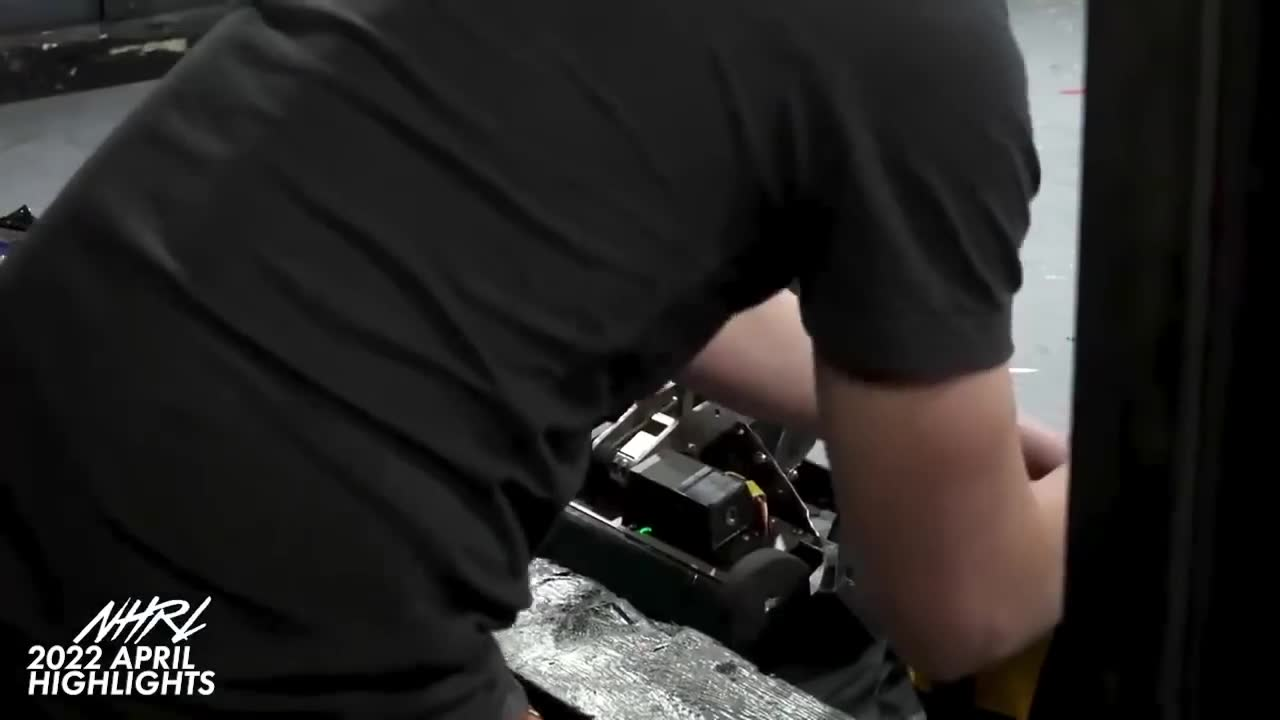combatbot: (542, 375, 853, 654)
